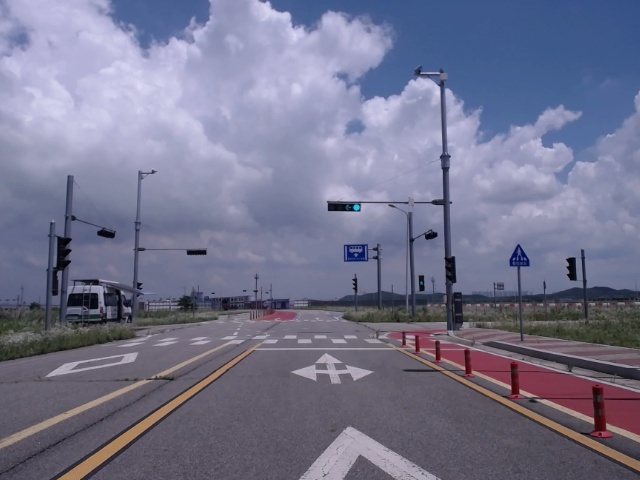all_green_4: (328, 201, 359, 211)
